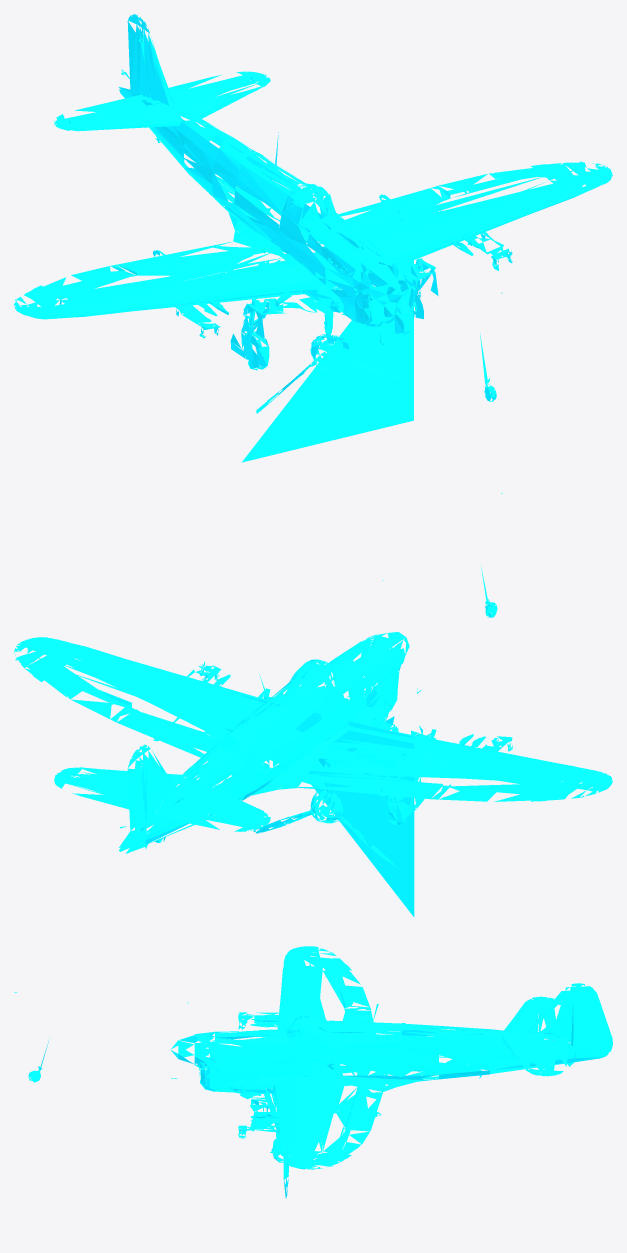
Rendered from PBAF108.glb.
The picture shows the model from 3 angles, top to bottom: view 1: azimuth 30°, elevation 25°; view 2: azimuth 150°, elevation 25°; view 3: azimuth 270°, elevation 25°; orthographic projection. The views are drawn at different scales.
Visible parts, largest first — view 1: misc; view 2: misc; view 3: misc.
Part boxes in pixels (x1,y1,x2,y2): misc: (14,14,612,462); misc: (14,493,612,917); misc: (14,946,612,1198).
Size of the model in its own units: 0.9064 by 0.4222 by 1.03.
